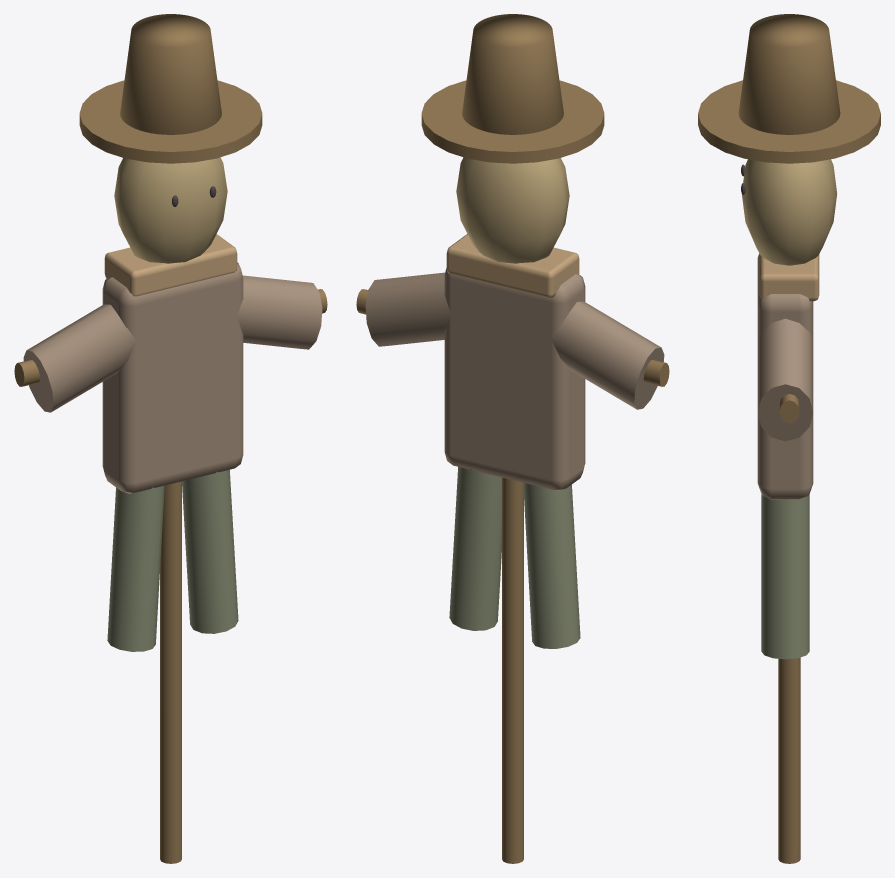
File: scarecrow.glb
The picture shows the model from 3 angles, left to right: view 1: azimuth 30°, elevation 25°; view 2: azimuth 150°, elevation 25°; view 3: azimuth 270°, elevation 25°; orthographic projection.
Visible parts, largest first — view 1: cloth-shirt, hat-crown, straw-head, planted-support-stake, hat-brim, trouser-leg--1, trouser-leg-1, shirt-sleeve--1, shirt-sleeve-1, neck-scarf, receiving-crossbar; view 2: cloth-shirt, hat-crown, straw-head, planted-support-stake, hat-brim, trouser-leg--1, trouser-leg-1, shirt-sleeve--1, shirt-sleeve-1, neck-scarf, receiving-crossbar; view 3: hat-crown, straw-head, hat-brim, trouser-leg-1, shirt-sleeve-1, cloth-shirt, planted-support-stake, neck-scarf, receiving-crossbar.
Boxes of the visible parts, x1=… form: cloth-shirt: x1=102, y1=262, x2=243, y2=493; hat-crown: x1=120, y1=14, x2=221, y2=134; straw-head: x1=114, y1=157, x2=227, y2=263; planted-support-stake: x1=160, y1=481, x2=181, y2=863; hat-brim: x1=79, y1=80, x2=262, y2=163; trouser-leg--1: x1=107, y1=485, x2=164, y2=651; trouser-leg-1: x1=182, y1=470, x2=238, y2=633; shirt-sleeve--1: x1=23, y1=304, x2=136, y2=412; shirt-sleeve-1: x1=237, y1=275, x2=322, y2=349; neck-scarf: x1=104, y1=234, x2=237, y2=296; receiving-crossbar: x1=14, y1=289, x2=327, y2=386; cloth-shirt: x1=444, y1=268, x2=585, y2=490; hat-crown: x1=462, y1=14, x2=563, y2=134; straw-head: x1=456, y1=157, x2=569, y2=263; planted-support-stake: x1=502, y1=477, x2=523, y2=863; hat-brim: x1=421, y1=80, x2=604, y2=163; trouser-leg--1: x1=523, y1=483, x2=580, y2=648; trouser-leg-1: x1=449, y1=467, x2=501, y2=630; shirt-sleeve--1: x1=551, y1=301, x2=664, y2=409; shirt-sleeve-1: x1=365, y1=272, x2=450, y2=346; neck-scarf: x1=446, y1=234, x2=579, y2=298; receiving-crossbar: x1=356, y1=289, x2=669, y2=386; hat-crown: x1=738, y1=14, x2=840, y2=134; straw-head: x1=741, y1=159, x2=837, y2=265; hat-brim: x1=698, y1=80, x2=880, y2=163; trouser-leg-1: x1=761, y1=494, x2=809, y2=659; shirt-sleeve-1: x1=757, y1=318, x2=813, y2=441; cloth-shirt: x1=757, y1=253, x2=813, y2=499; planted-support-stake: x1=778, y1=657, x2=800, y2=863; neck-scarf: x1=759, y1=254, x2=819, y2=301; receiving-crossbar: x1=779, y1=394, x2=799, y2=423.
Size of the model in its own units: 0.88 by 2.3 by 0.46.
